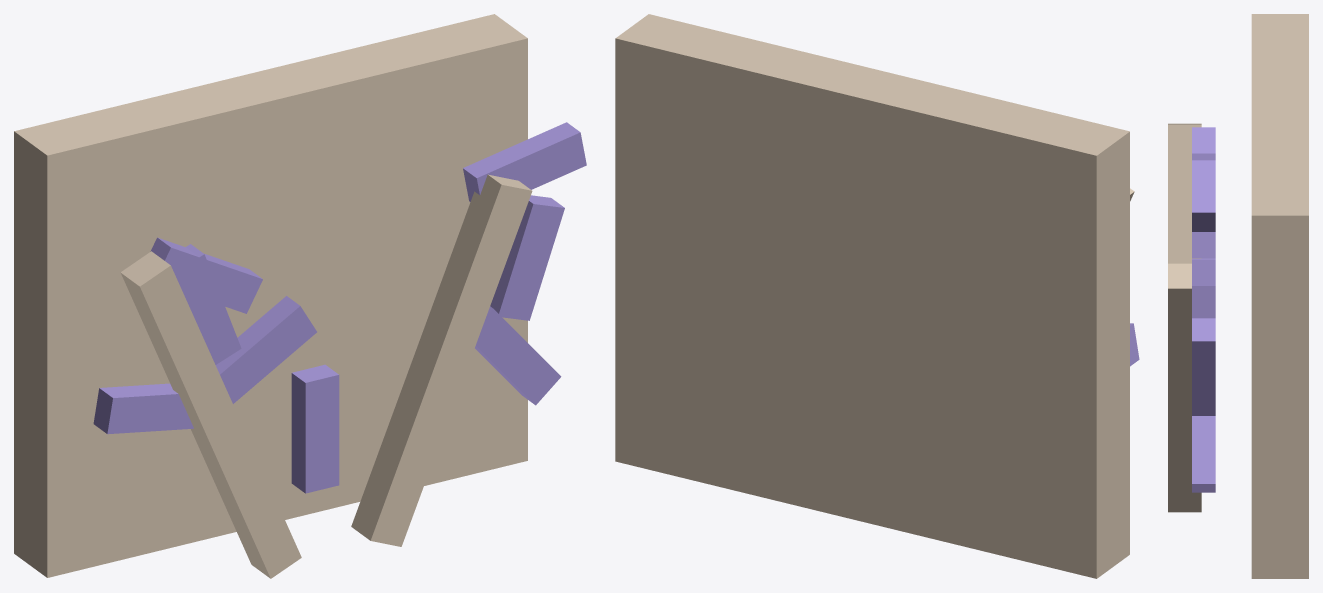
Rendered from fault_electricite.gltf.
The picture shows the model from 3 angles, left to right: view 1: azimuth 30°, elevation 25°; view 2: azimuth 150°, elevation 25°; view 3: azimuth 270°, elevation 25°; orthographic projection. The views are drawn at different scales.
Parts seen in each view (by area): view 1: broken_cover, exposed_wire_r, exposed_wire_l, spark_0, spark_4, spark_3, spark_7, spark_2, spark_1, spark_6, spark_5; view 2: broken_cover; view 3: broken_cover, exposed_wire_r, exposed_wire_l, spark_6, spark_4, spark_1, spark_7, spark_5.
Part boxes in pixels (x1,y1,x2,y2): broken_cover: (14, 14, 527, 577); exposed_wire_r: (351, 174, 532, 546); exposed_wire_l: (120, 251, 301, 578); spark_0: (291, 364, 339, 493); spark_4: (490, 195, 564, 320); spark_3: (215, 296, 316, 403); spark_7: (463, 122, 586, 201); spark_2: (93, 383, 193, 434); spark_1: (475, 306, 561, 405); spark_6: (150, 237, 262, 313); spark_5: (175, 244, 241, 364); broken_cover: (615, 14, 1129, 578); broken_cover: (1251, 14, 1308, 578); exposed_wire_r: (1168, 263, 1201, 512); exposed_wire_l: (1168, 123, 1201, 263); spark_6: (1192, 127, 1215, 231); spark_4: (1192, 318, 1215, 415); spark_1: (1192, 416, 1215, 492); spark_7: (1192, 260, 1215, 318); spark_5: (1192, 153, 1215, 258).
Size of the model in its own units: 0.5252 by 0.428 by 0.1475.
